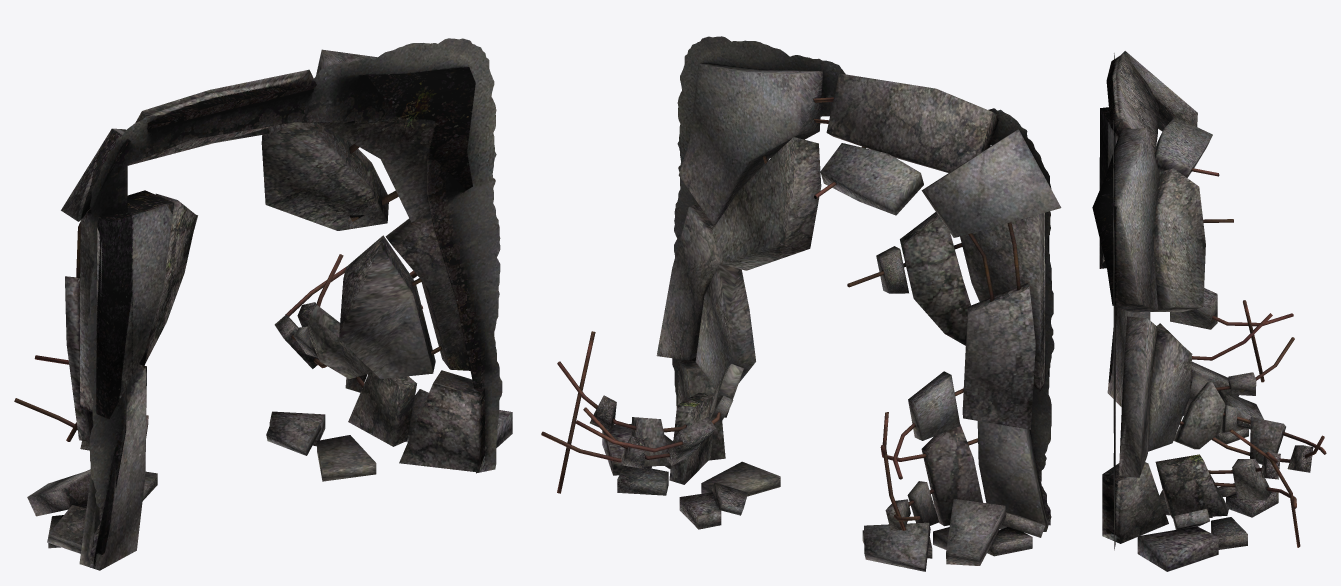
The model's file is ConcreteWall_Hole.obj.
3 renders of one model, left to right at view 1: azimuth 30°, elevation 25°; view 2: azimuth 150°, elevation 25°; view 3: azimuth 270°, elevation 25°, orthographic. The views are drawn at different scales.
Parts seen in each view (by area): view 1: ConcreteWall_Hole; view 2: ConcreteWall_Hole; view 3: ConcreteWall_Hole.
Part boxes in pixels (<box>): ConcreteWall_Hole: <box>14,38,512,570</box>; ConcreteWall_Hole: <box>541,36,1061,571</box>; ConcreteWall_Hole: <box>1092,51,1326,571</box>.
Size of the model in its own units: 281 by 257 by 147.
1 material, 1 textured.
